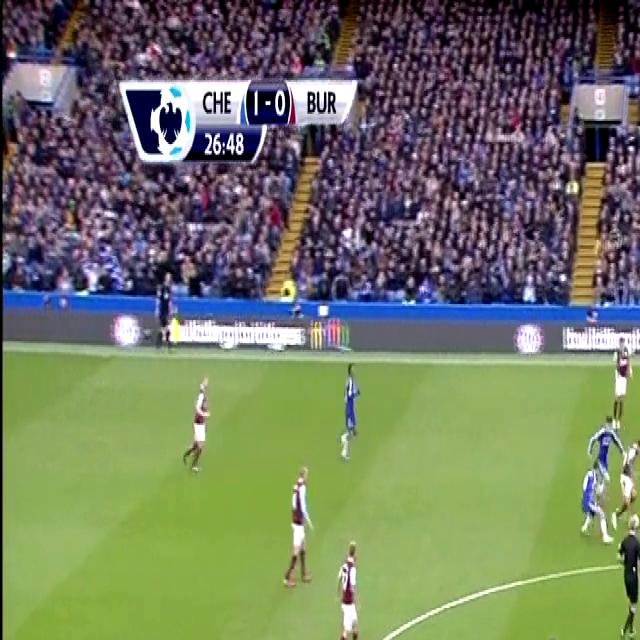referee: (614, 514, 640, 640), (153, 271, 182, 358)
soccer-player: (278, 456, 314, 595), (327, 531, 365, 640), (179, 366, 214, 482), (334, 356, 364, 468), (584, 410, 618, 508), (613, 423, 640, 542), (576, 450, 606, 544), (608, 335, 633, 431), (519, 626, 572, 640)
